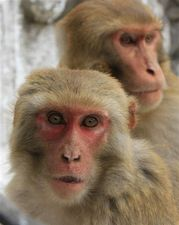monkey: (11, 50, 132, 220), (85, 2, 164, 164)
